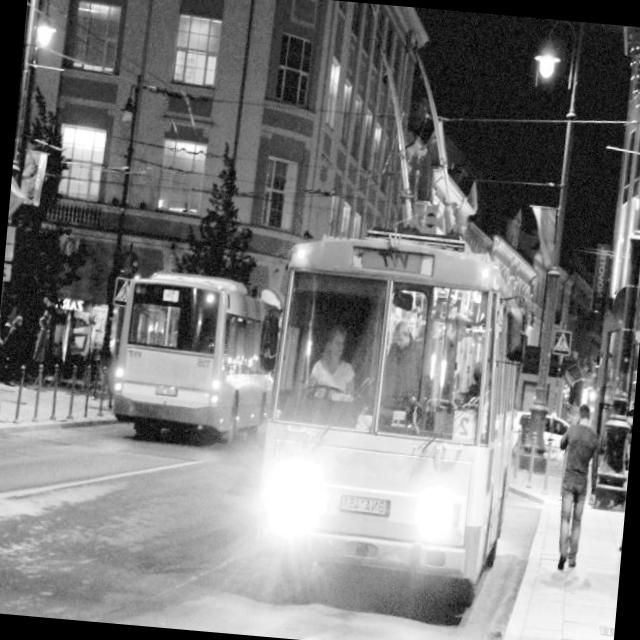Bus: (238, 206, 538, 616), (78, 187, 304, 522)
Car: (509, 389, 579, 470)
